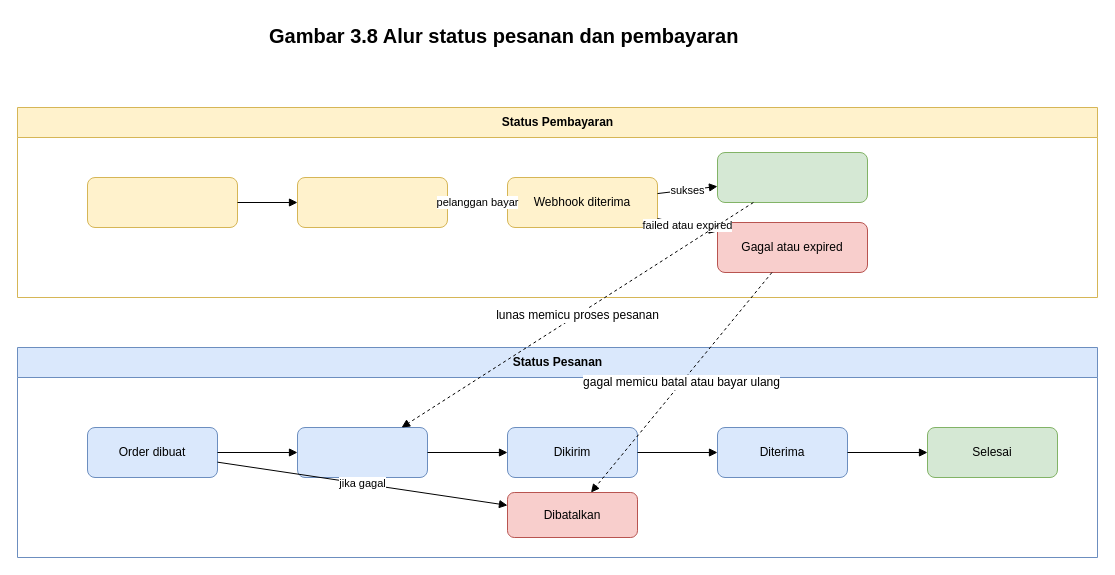
This 1115x575 diagram has some shape labels left out. The shapes that lost their labels are listed below. From the top down, each one's centre as x and y in pixels, then its label:
(x=792, y=177): Pembayaran lunas
(x=162, y=202): Menunggu pembayaran
(x=372, y=202): Invoice Xendit dibuat
(x=362, y=452): Diproses
